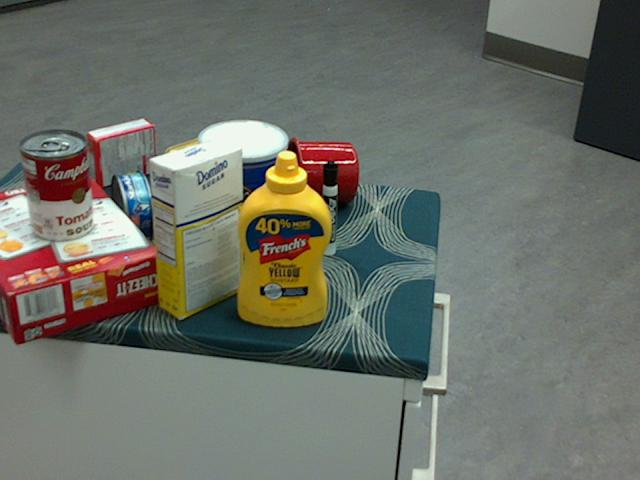cracker_box: (0, 172, 164, 344)
gelatin_box: (86, 118, 154, 188)
large_marker: (321, 160, 338, 255)
master_chef_can: (195, 119, 285, 263)
mug: (282, 136, 357, 207)
mustard_bottle: (237, 149, 332, 326)
potted_meat_can: (163, 130, 242, 220)
sugar_box: (148, 138, 244, 318)
tomato_soup_can: (19, 129, 93, 242)
tuna_fish_can: (108, 172, 152, 245)
